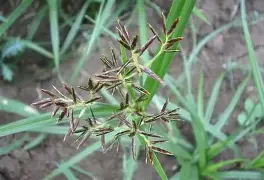weed: (38, 13, 189, 161)
